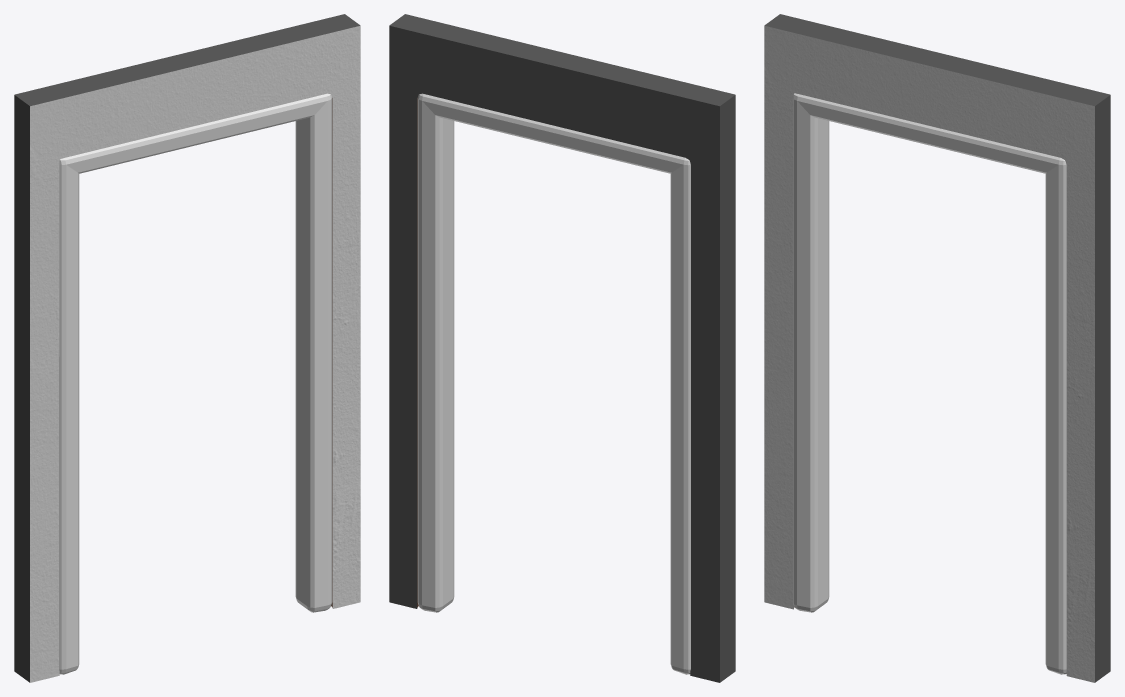
Rendered from Wall_with_door_frame.fbx.
3 renders of one model, left to right at view 1: azimuth 30°, elevation 25°; view 2: azimuth 150°, elevation 25°; view 3: azimuth 330°, elevation 25°, orthographic.
Visible parts, largest first — view 1: Wall_8, Door_frame; view 2: Wall_8, Door_frame; view 3: Wall_8, Door_frame.
Part boxes in pixels (box(x1,y1,x2,y2)): Wall_8: box(14, 14, 360, 682); Door_frame: box(59, 93, 332, 674); Wall_8: box(389, 14, 735, 682); Door_frame: box(417, 93, 690, 674); Wall_8: box(764, 14, 1110, 682); Door_frame: box(793, 93, 1066, 674).
Size of the model in its own units: 120 by 201 by 12.
